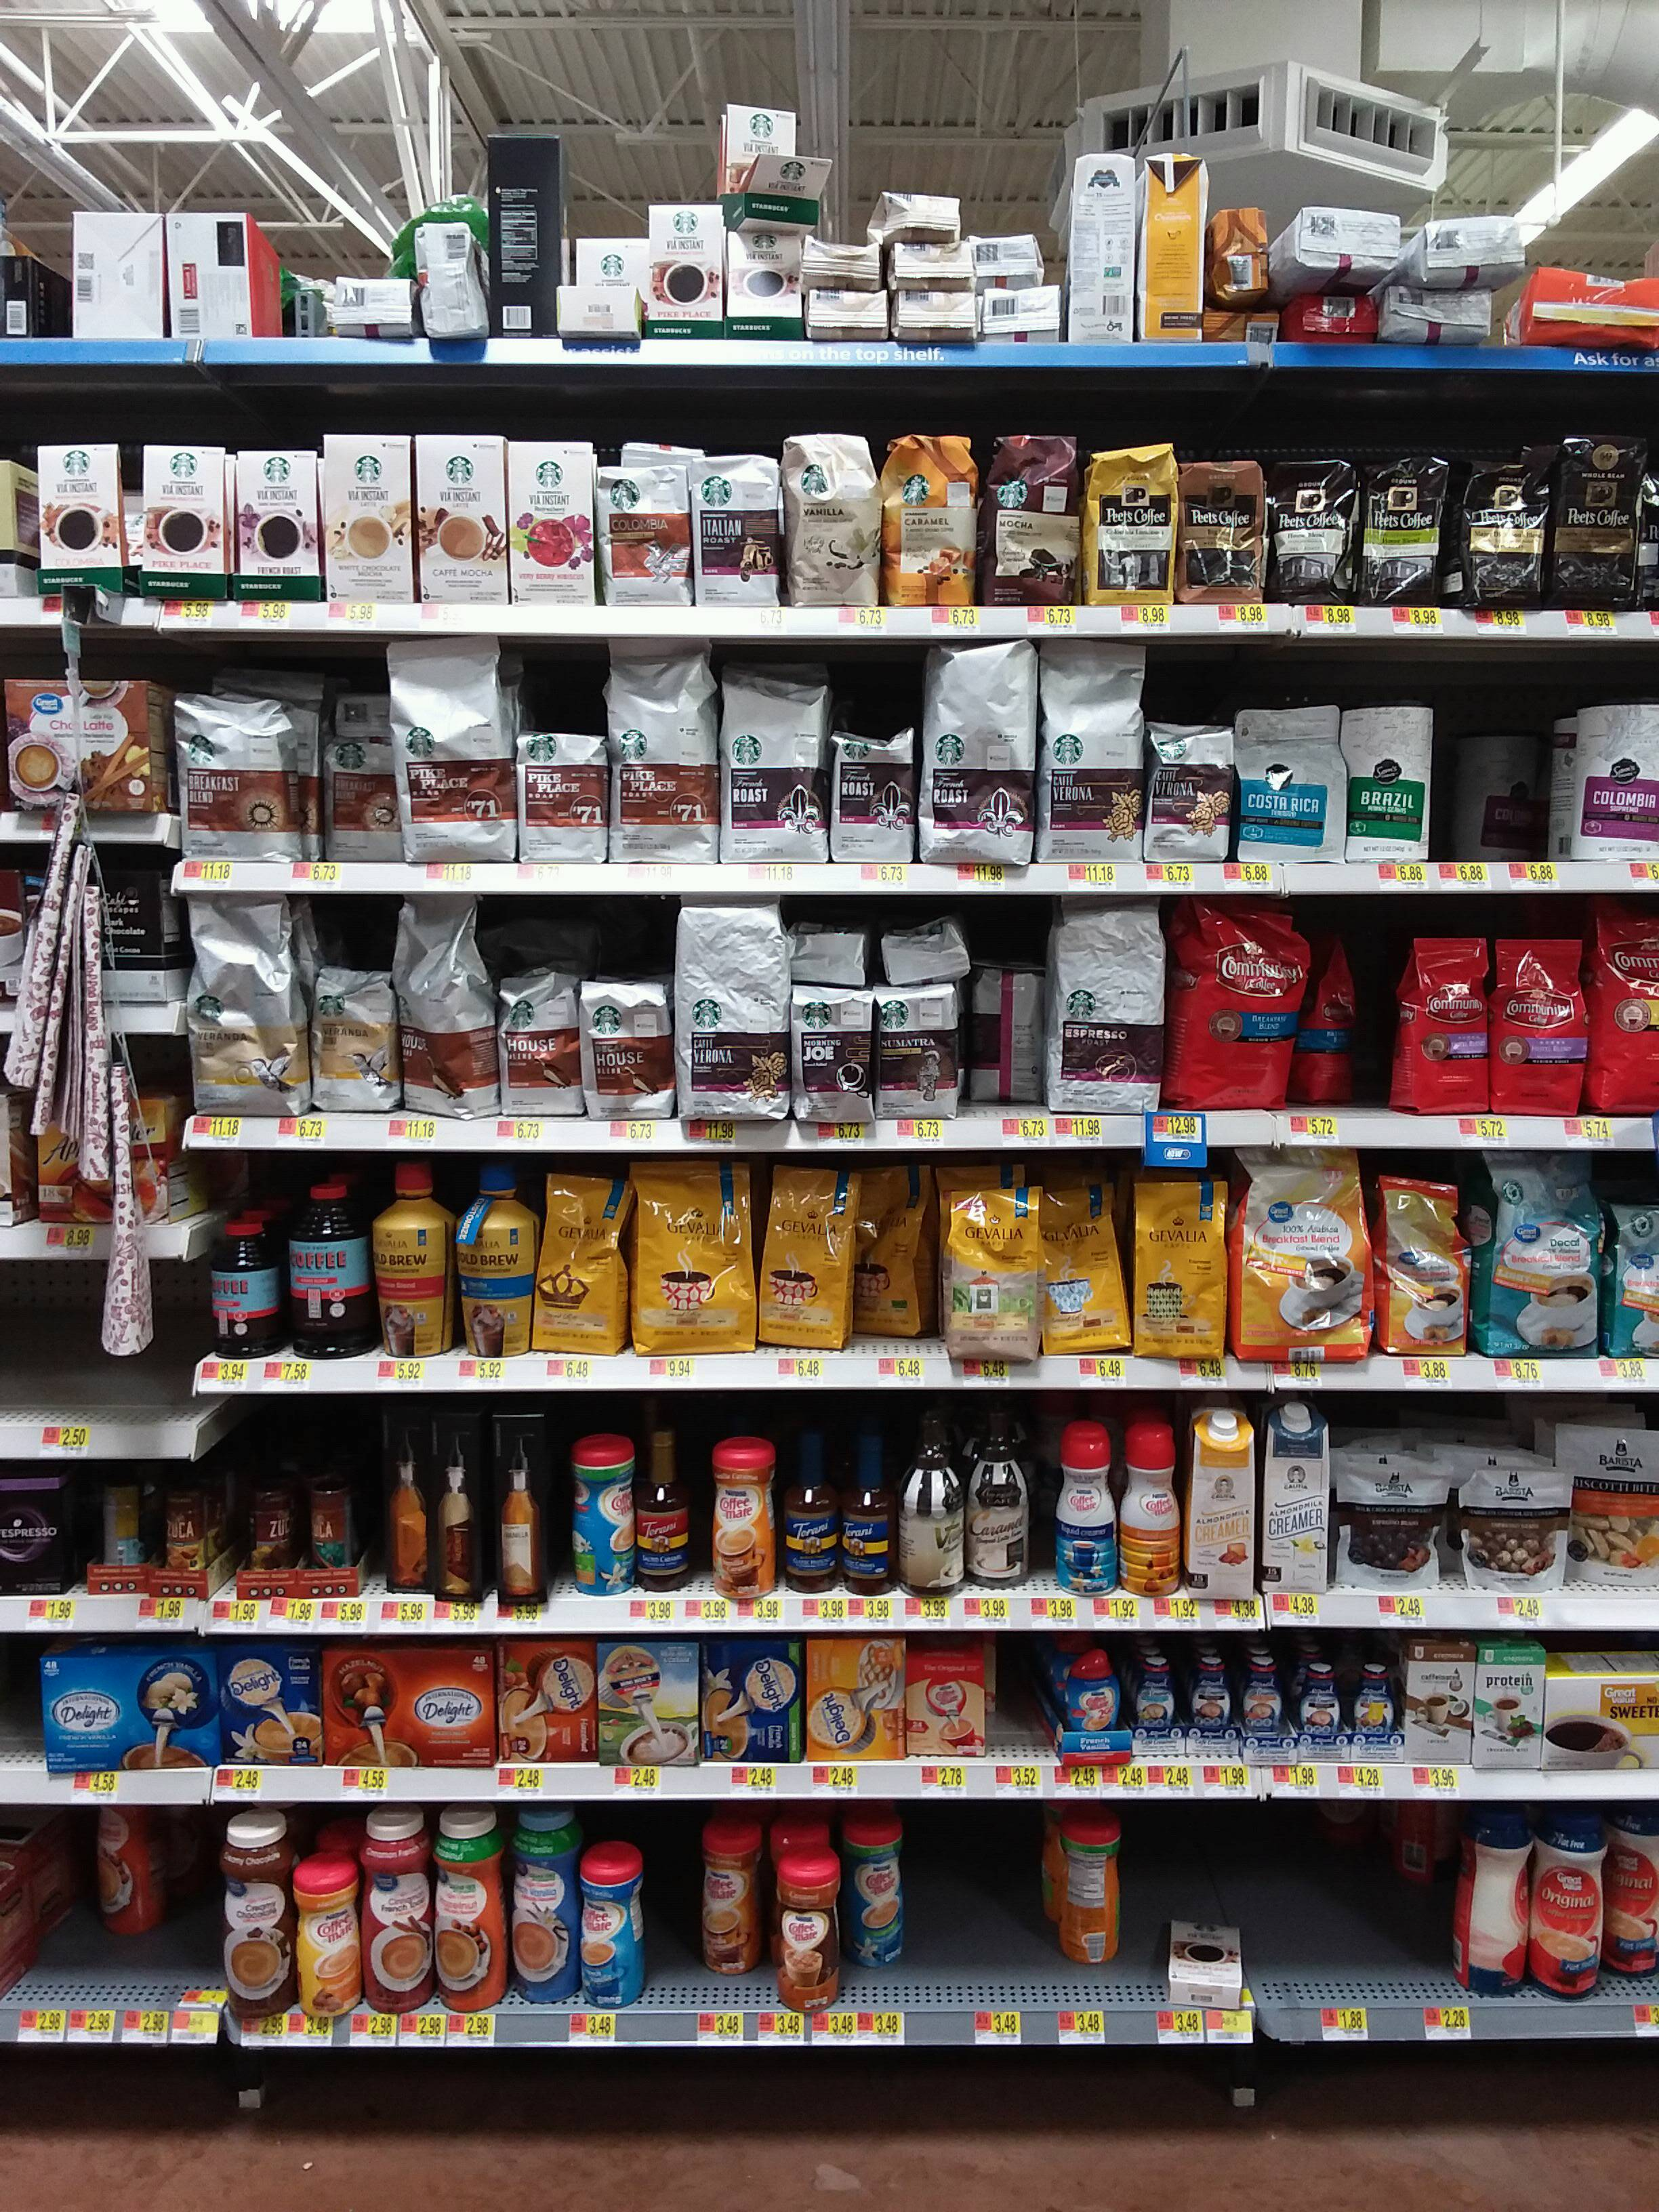Out-of-stock: (922, 1818, 1037, 2012)
